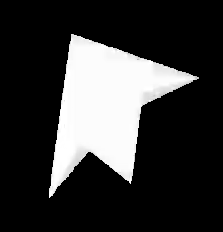Plane: (36, 26, 206, 216)
